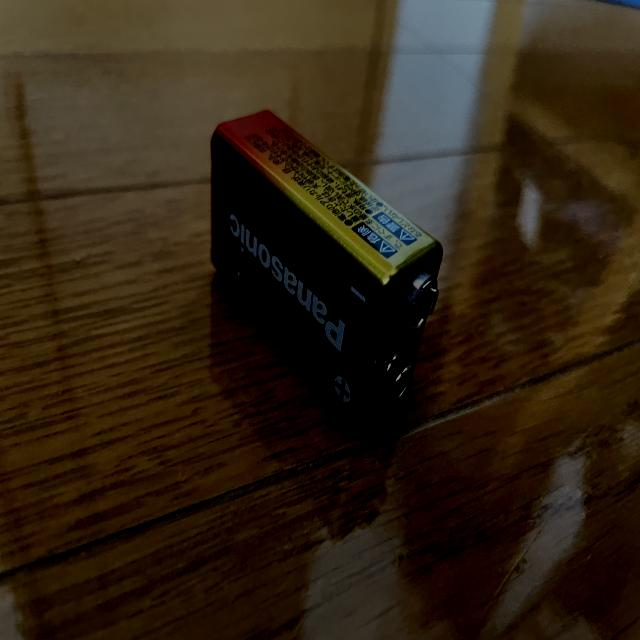9V: (211, 110, 443, 426)
